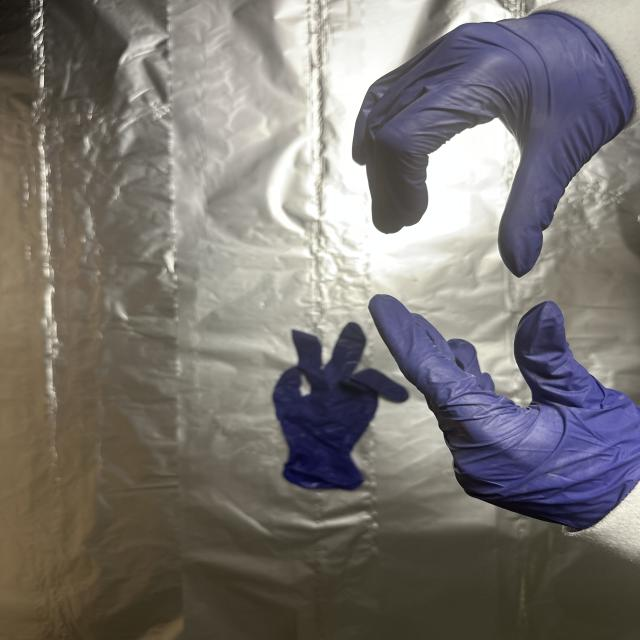gloves_contaminated: (352, 5, 634, 277), (370, 295, 640, 530)
